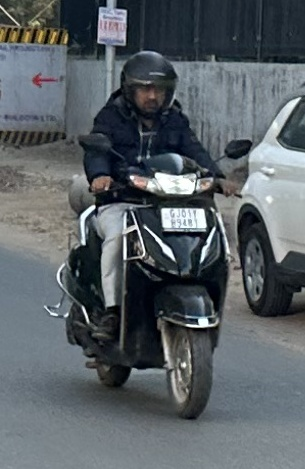BikeWithRider: (38, 43, 256, 425)
Helmet: (109, 48, 185, 122)
